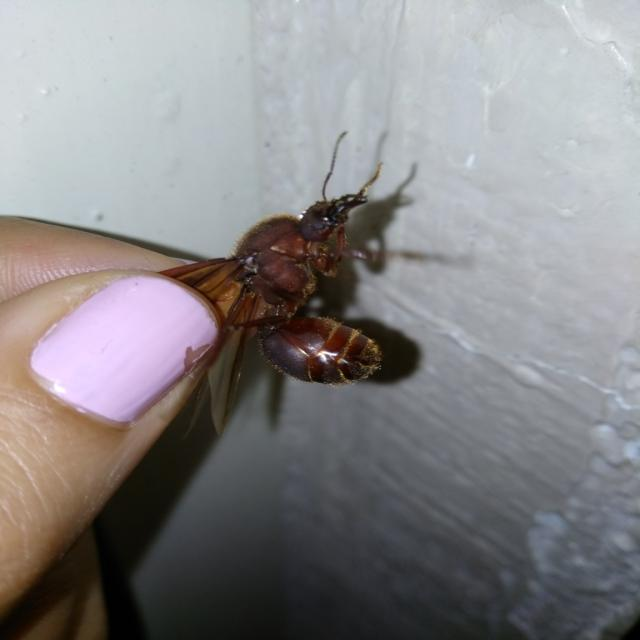Alive-Female-Alate: (64, 117, 473, 441)
